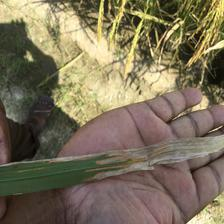2 BacterialBlight: (56, 136, 222, 168)
